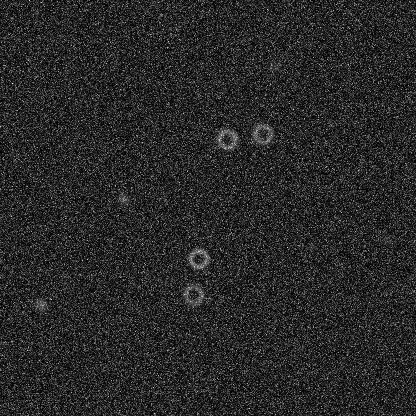Ring: (186, 246, 210, 270), (250, 122, 274, 146), (181, 282, 205, 306), (215, 127, 239, 151)
Spot: (379, 231, 395, 247), (115, 190, 131, 206), (32, 296, 48, 312), (267, 57, 283, 73)
